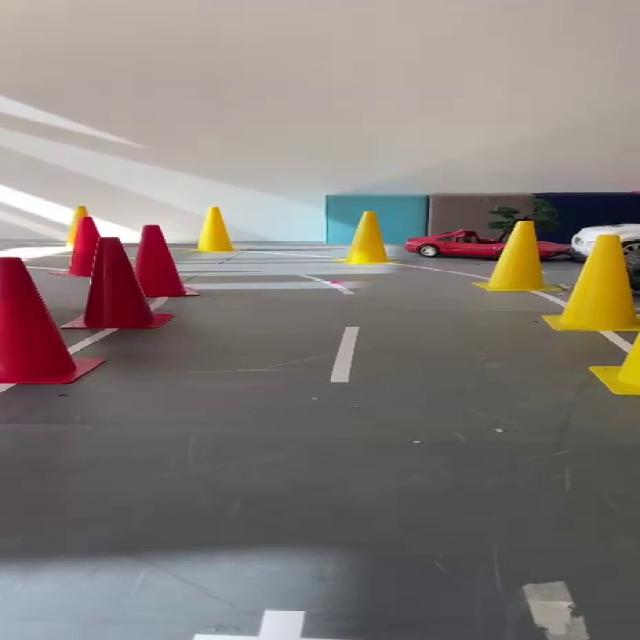Cone-red: (0, 258, 102, 383), (84, 238, 168, 328), (135, 225, 190, 297), (69, 216, 99, 277)
Cones-yellow: (546, 235, 639, 395), (480, 221, 548, 292), (335, 212, 389, 264), (196, 207, 234, 252), (66, 206, 88, 252)
